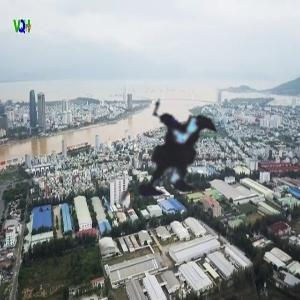drone: (75, 55, 275, 255)
